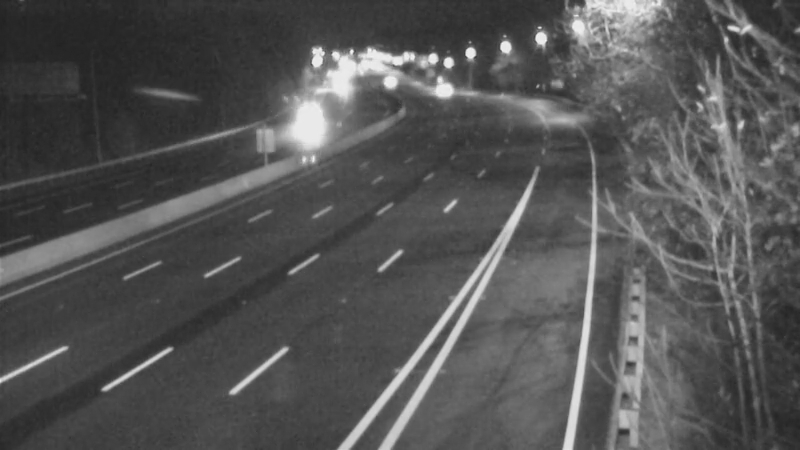vehicle: (364, 58, 414, 108), (414, 61, 464, 111), (286, 88, 336, 138)
